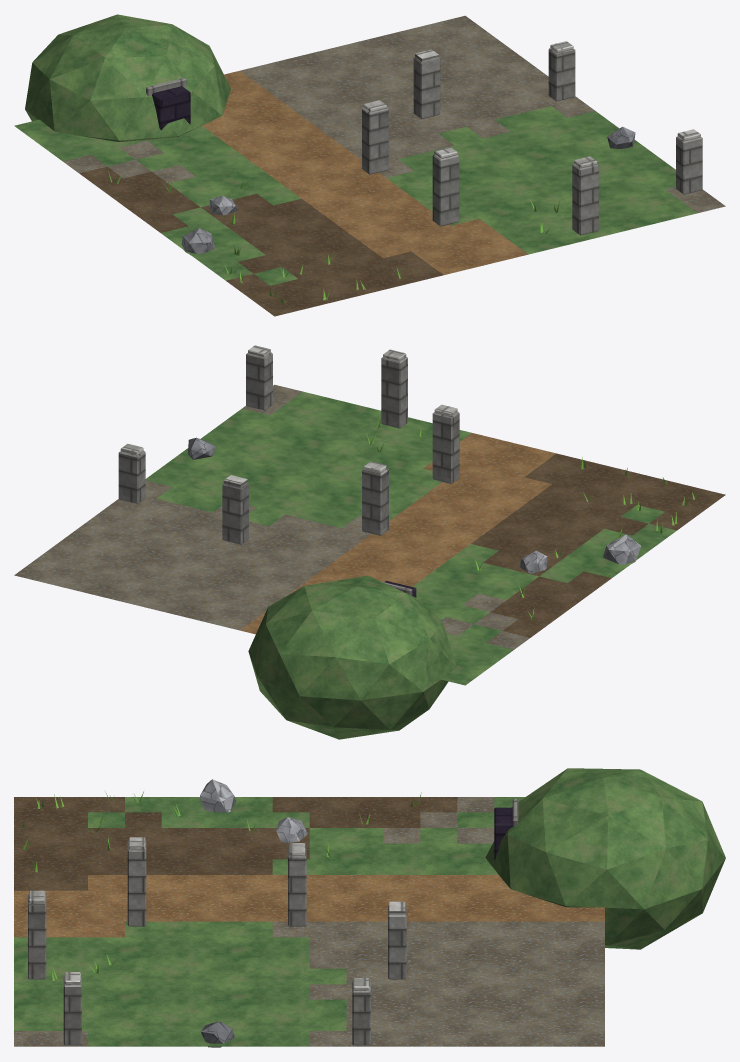
File: chunk_1_20.glb
3 views of the same model, one above another, from view 1: azimuth 30°, elevation 25°; view 2: azimuth 150°, elevation 25°; view 3: azimuth 270°, elevation 25° (orthographic). The views are drawn at different scales.
Parts seen in each view (by area): view 1: chunk_1_20; view 2: chunk_1_20; view 3: chunk_1_20.
Part boxes in pixels (box(x1,y1,x2,y2)): chunk_1_20: box(14, 14, 725, 316); chunk_1_20: box(14, 345, 725, 739); chunk_1_20: box(14, 768, 725, 1047).
Bounding box in the file's own units: 16.01 × 4.76 × 19.27.
10 materials, 9 textured.
